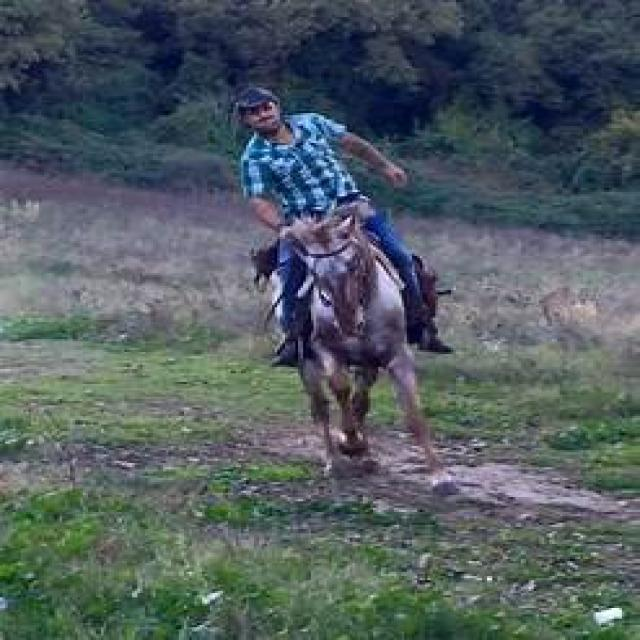animal: (266, 223, 444, 469)
